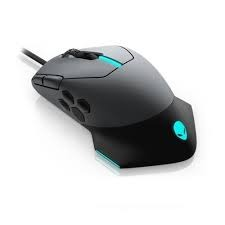mouse: (13, 33, 204, 172)
